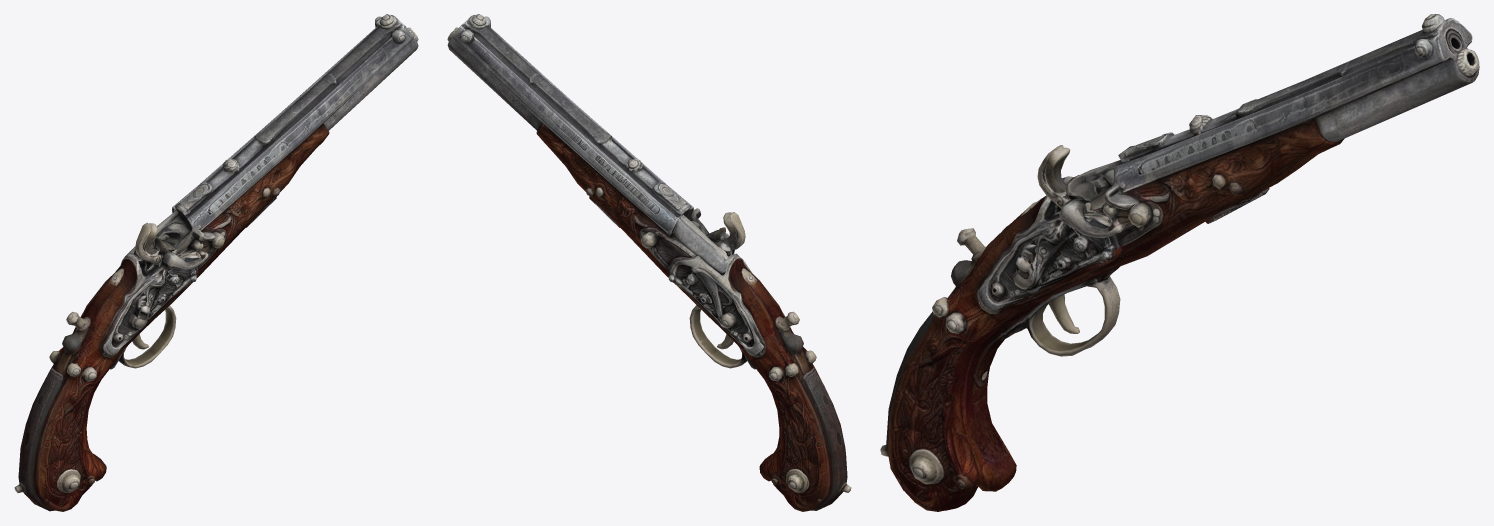
Rendered from pistol.glb.
The picture shows the model from 3 angles, left to right: view 1: azimuth 30°, elevation 25°; view 2: azimuth 150°, elevation 25°; view 3: azimuth 330°, elevation 25°; orthographic projection. The views are drawn at different scales.
Visible parts, largest first — view 1: tripo_node_03f682a8-f45e-4574-bf2f-54c9e1c16509; view 2: tripo_node_03f682a8-f45e-4574-bf2f-54c9e1c16509; view 3: tripo_node_03f682a8-f45e-4574-bf2f-54c9e1c16509.
Part boxes in pixels (left/top/right/bottom): tripo_node_03f682a8-f45e-4574-bf2f-54c9e1c16509: left=14, top=14, right=418, bottom=511; tripo_node_03f682a8-f45e-4574-bf2f-54c9e1c16509: left=447, top=14, right=851, bottom=511; tripo_node_03f682a8-f45e-4574-bf2f-54c9e1c16509: left=880, top=14, right=1479, bottom=511.
Bounding box in the file's own units: 0.9786 × 0.9633 × 0.159.
Materials: 1 (1 with a texture image).
